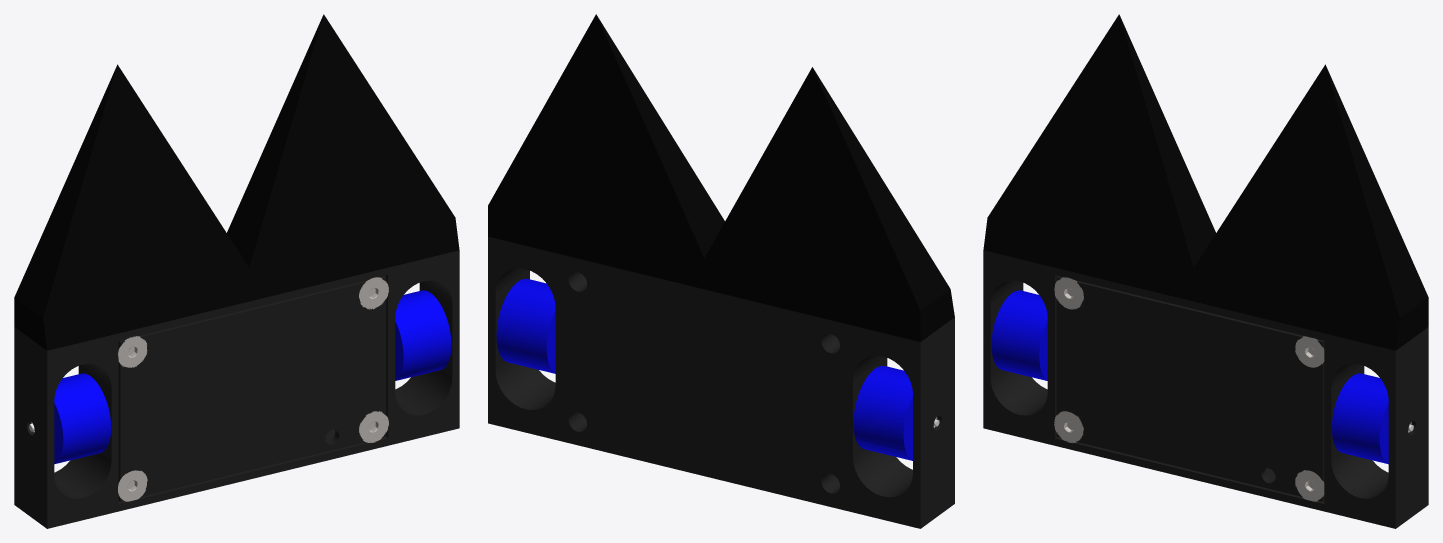
The model's file is twofold.glb.
3 views of the same model, side by side, from view 1: azimuth 30°, elevation 25°; view 2: azimuth 150°, elevation 25°; view 3: azimuth 330°, elevation 25° (orthographic). The views are drawn at different scales.
Visible parts, largest first — view 1: Wedge, Top, Shell, Tires (×2), 91253A537_Black-Oxide Alloy Steel Hex Drive Flat Head Screw (×4); view 2: Shell, Wedge, Tires (×2); view 3: Wedge, Top, Shell, Tires (×2), 91253A537_Black-Oxide Alloy Steel Hex Drive Flat Head Screw (×4).
Boxes of the visible parts, x1,y1,x2,y2 form: Wedge: (14,14,459,350); Top: (118,276,386,501); Shell: (14,250,459,528); Tires (×2): (54,290,451,464); 91253A537_Black-Oxide Alloy Steel Hex Drive Flat Head Screw (×4): (118,277,388,501); Shell: (488,236,954,528); Wedge: (488,14,954,341); Tires (×2): (496,278,912,460); Wedge: (983,14,1428,350); Top: (1056,276,1324,501); Shell: (983,250,1428,528); Tires (×2): (991,290,1388,464); 91253A537_Black-Oxide Alloy Steel Hex Drive Flat Head Screw (×4): (1054,277,1324,501).
Size of the model in its own units: 185 by 178 by 31.75.
